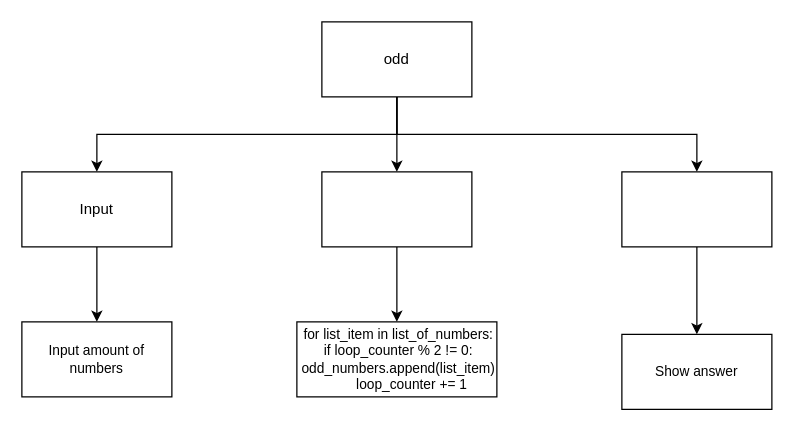
This 794x431 diagram has some shape labels left out. The shapes that lost their labels are listed below. From the top down, each one's box as (x1, y1, x2, y2) in pixels, then its label:
(321, 171, 472, 247): Process
(621, 171, 772, 247): Output
